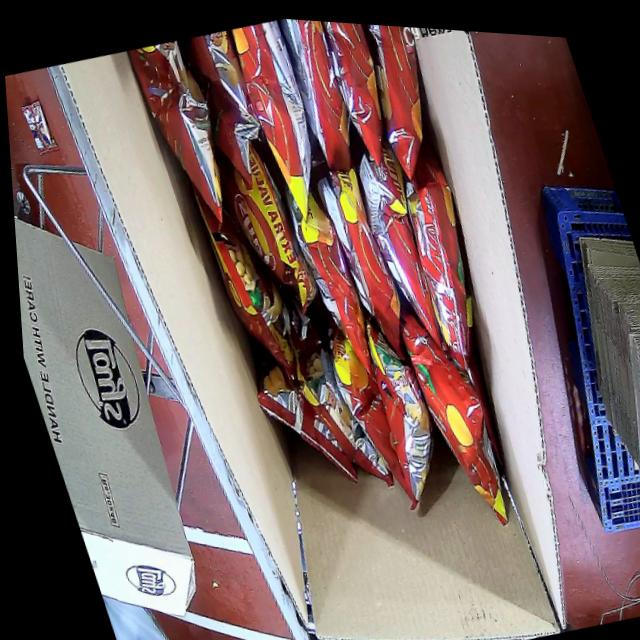MASALA: (123, 8, 574, 584)
